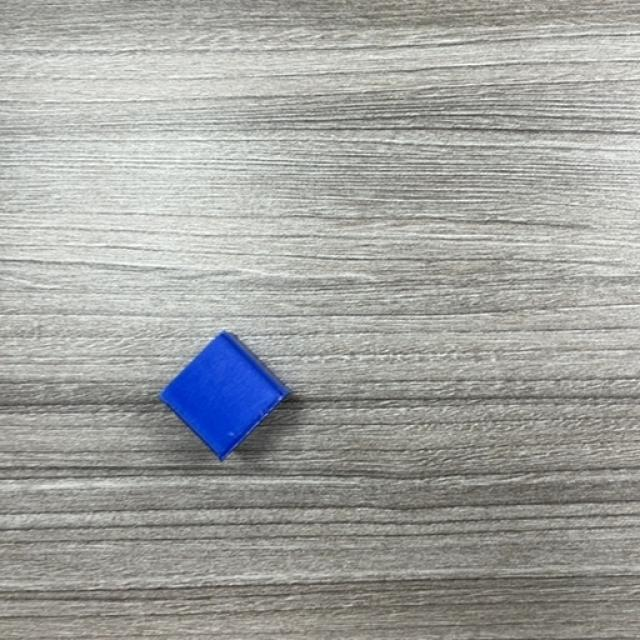Azul: (160, 331, 291, 462)
